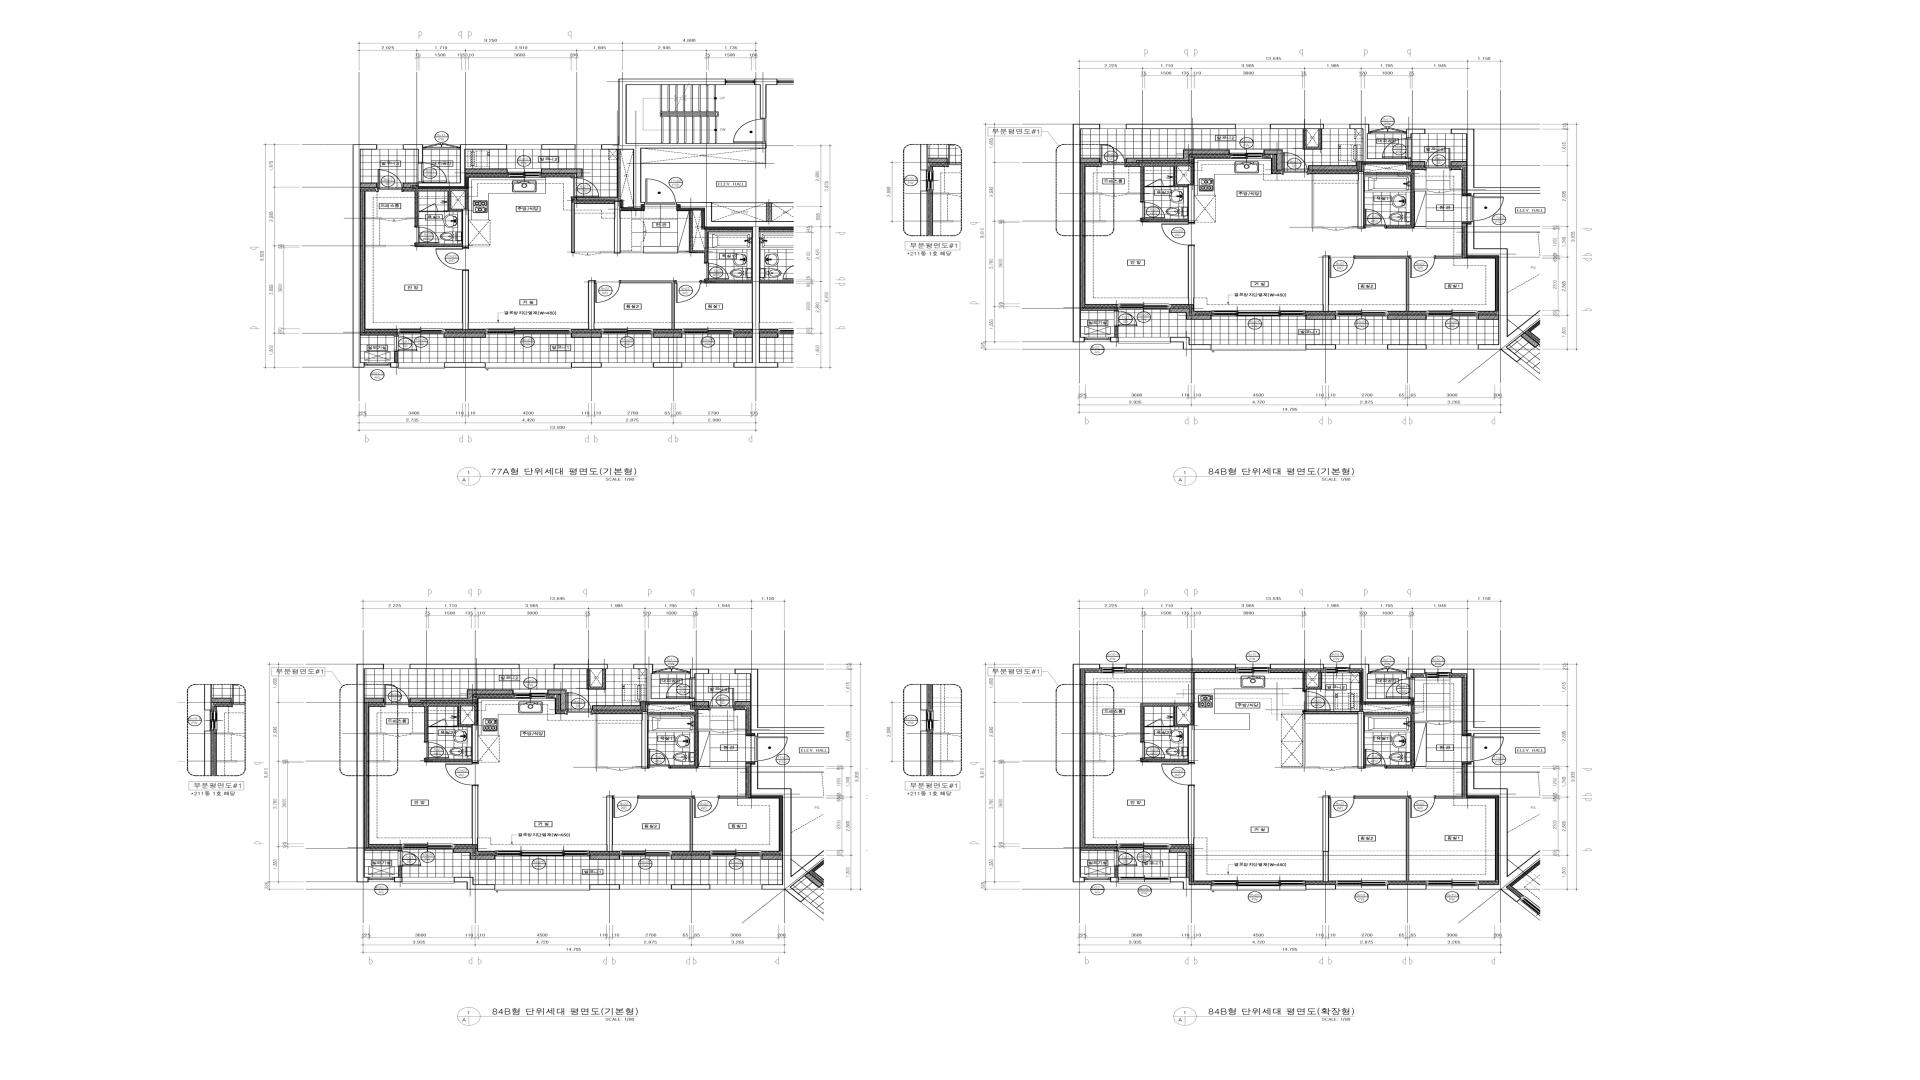door: (1470, 736, 1505, 761), (645, 178, 676, 204), (754, 736, 787, 761), (1470, 196, 1503, 222), (733, 119, 766, 144), (444, 762, 479, 786), (435, 247, 469, 270), (1162, 762, 1195, 786), (1162, 222, 1195, 245), (1379, 137, 1412, 158), (663, 678, 696, 698), (1100, 144, 1126, 167), (692, 795, 720, 818), (384, 684, 410, 707), (1410, 795, 1436, 818), (1410, 256, 1436, 278), (675, 280, 702, 302), (595, 280, 621, 302), (377, 169, 404, 191), (1303, 690, 1331, 711), (571, 177, 599, 198), (1386, 678, 1415, 698), (418, 162, 447, 182), (613, 795, 638, 818), (709, 688, 735, 711), (567, 692, 592, 715), (1329, 795, 1354, 818), (1329, 256, 1354, 278), (1425, 148, 1451, 170), (1283, 152, 1308, 174), (414, 225, 439, 244), (1365, 749, 1387, 769), (423, 741, 448, 758), (1141, 741, 1166, 758), (704, 262, 729, 280), (1141, 202, 1166, 219), (649, 749, 670, 769), (1365, 208, 1386, 228), (1114, 310, 1138, 327), (1114, 851, 1138, 866), (398, 851, 421, 866), (394, 335, 417, 351), (1369, 127, 1407, 135), (1369, 667, 1407, 674), (653, 667, 690, 674), (423, 142, 460, 149), (421, 203, 438, 212), (1146, 178, 1163, 187), (430, 719, 447, 727), (1146, 719, 1163, 727), (1428, 720, 1451, 725), (381, 218, 407, 222), (575, 252, 601, 256), (1101, 193, 1127, 196), (1324, 227, 1349, 231), (712, 729, 735, 733), (607, 767, 633, 770), (1319, 767, 1345, 770), (1101, 733, 1127, 736), (385, 733, 410, 736), (1428, 190, 1451, 193), (644, 222, 646, 241)
wall: (601, 78, 766, 208), (676, 202, 778, 368), (750, 761, 824, 902), (1466, 761, 1540, 902), (1466, 222, 1540, 363), (356, 663, 384, 882), (1452, 128, 1540, 196), (736, 669, 824, 736), (1452, 669, 1540, 736), (1073, 663, 1100, 882), (1073, 124, 1100, 342), (352, 144, 377, 368), (1354, 795, 1410, 881), (1282, 711, 1358, 767), (1365, 704, 1428, 769), (418, 144, 508, 186), (1361, 164, 1415, 228), (645, 704, 699, 769), (690, 210, 752, 262), (638, 795, 694, 852), (1354, 256, 1410, 311), (621, 281, 675, 330), (1350, 124, 1412, 162), (633, 663, 695, 702), (1350, 663, 1411, 702), (406, 189, 468, 225), (576, 149, 620, 200), (1141, 164, 1195, 202), (425, 703, 479, 741), (1141, 703, 1195, 741), (641, 148, 766, 164), (1141, 187, 1188, 223), (1141, 727, 1188, 762), (425, 727, 472, 762), (1126, 149, 1229, 164), (409, 690, 513, 703), (1345, 711, 1365, 769), (600, 200, 621, 253), (754, 78, 778, 119), (1349, 171, 1365, 228), (633, 712, 649, 769), (595, 713, 607, 769), (1312, 174, 1324, 228), (410, 663, 520, 669), (1126, 663, 1236, 669), (1126, 124, 1236, 129), (1170, 848, 1189, 877), (1323, 795, 1329, 881), (1171, 336, 1212, 349), (1170, 307, 1212, 319), (454, 848, 496, 860), (454, 877, 495, 889), (1170, 877, 1211, 889), (462, 270, 469, 330), (1263, 149, 1283, 170), (587, 669, 607, 690), (547, 690, 567, 711), (1188, 245, 1195, 305), (1303, 129, 1323, 149), (1188, 786, 1195, 845), (472, 786, 479, 845), (402, 144, 423, 162), (607, 795, 613, 852), (1323, 256, 1329, 311), (1303, 671, 1323, 690), (588, 280, 595, 330), (542, 169, 583, 177), (462, 208, 469, 247), (1270, 124, 1324, 129), (554, 663, 608, 669), (1270, 663, 1324, 669), (621, 241, 644, 253), (1188, 183, 1195, 223), (1308, 165, 1357, 170), (592, 705, 641, 711), (472, 724, 479, 762), (1188, 724, 1195, 762), (443, 332, 485, 338), (465, 169, 508, 174), (571, 198, 575, 253), (444, 363, 485, 368), (1387, 344, 1427, 349), (671, 855, 711, 860), (671, 884, 709, 889), (702, 280, 752, 284), (690, 669, 709, 678), (542, 144, 575, 149), (1407, 128, 1425, 137), (1407, 669, 1425, 678), (1305, 344, 1336, 349), (589, 855, 620, 860), (571, 332, 601, 338), (653, 332, 683, 338), (1387, 885, 1427, 889), (1387, 315, 1427, 319), (572, 363, 601, 368), (653, 363, 682, 368), (1081, 307, 1118, 311), (414, 244, 463, 247), (1191, 671, 1195, 703), (1305, 315, 1336, 319), (589, 885, 620, 889), (1305, 885, 1336, 889), (762, 855, 782, 860), (364, 698, 384, 703), (1478, 314, 1498, 319), (364, 848, 402, 851), (360, 332, 398, 335), (1081, 157, 1100, 162), (1081, 848, 1118, 851), (733, 332, 752, 338), (360, 182, 377, 187), (1451, 161, 1466, 166), (735, 700, 750, 705), (402, 182, 418, 187), (1436, 795, 1466, 798), (1411, 161, 1425, 166), (720, 795, 746, 798), (1436, 256, 1462, 258), (695, 702, 709, 705), (1085, 760, 1106, 762), (369, 760, 389, 762), (394, 351, 398, 363), (1110, 336, 1118, 342), (1114, 866, 1118, 877), (1085, 732, 1101, 735), (369, 732, 385, 735), (398, 866, 402, 877), (394, 877, 402, 882), (1110, 877, 1118, 882), (390, 363, 398, 368), (410, 732, 425, 735), (1114, 327, 1118, 336), (1415, 189, 1428, 191), (1127, 732, 1141, 735), (699, 728, 712, 731), (1451, 720, 1462, 723), (1451, 189, 1462, 191), (1085, 220, 1106, 222), (735, 728, 745, 731), (641, 211, 644, 222), (1360, 704, 1364, 711), (365, 245, 385, 247), (1085, 193, 1101, 194), (365, 218, 381, 219), (1127, 193, 1141, 194), (418, 211, 421, 212)
window: (1212, 881, 1305, 890), (1212, 344, 1305, 351), (1212, 310, 1305, 316), (495, 885, 589, 890), (496, 851, 589, 856), (1336, 880, 1387, 889), (1427, 880, 1478, 889), (485, 363, 572, 368), (485, 328, 571, 334), (402, 877, 455, 884), (1118, 336, 1171, 343), (1118, 877, 1170, 884), (1427, 310, 1478, 316), (1336, 310, 1387, 316), (1118, 303, 1170, 310), (513, 690, 547, 699), (1236, 663, 1270, 673), (1229, 149, 1263, 158), (508, 169, 542, 178), (620, 851, 671, 856), (402, 844, 454, 849), (711, 851, 762, 856), (1118, 844, 1170, 849), (1427, 344, 1478, 349), (1336, 344, 1387, 349), (682, 328, 733, 334), (601, 328, 653, 334), (1425, 669, 1452, 678), (1324, 663, 1350, 673), (1100, 663, 1126, 673), (398, 363, 444, 368), (398, 328, 443, 334), (709, 885, 762, 889), (620, 885, 671, 889), (682, 363, 733, 367), (601, 363, 653, 367), (520, 663, 554, 669), (508, 144, 542, 149), (1236, 124, 1270, 129), (725, 79, 754, 84), (368, 877, 394, 882), (709, 669, 736, 674), (608, 663, 634, 669), (384, 663, 410, 669), (1084, 877, 1110, 882), (575, 144, 601, 149), (1084, 336, 1110, 342), (1324, 124, 1350, 129), (1100, 124, 1126, 129), (377, 144, 402, 149), (364, 363, 390, 367), (1425, 129, 1452, 133)
